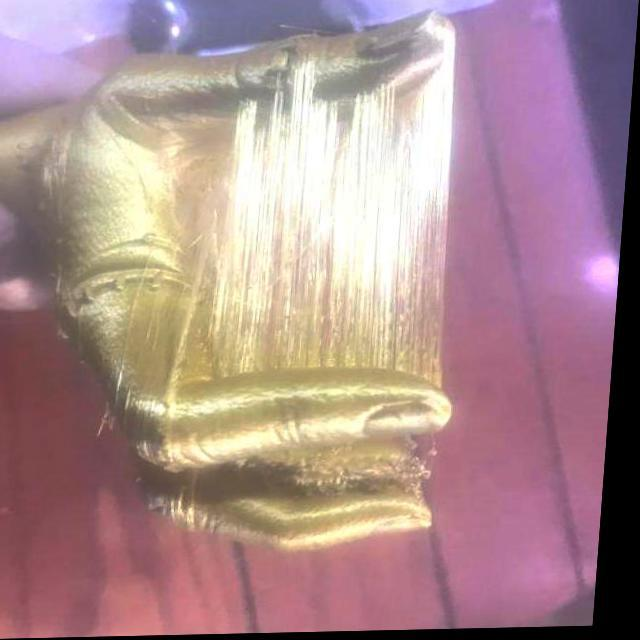stringing: (189, 44, 461, 395)
